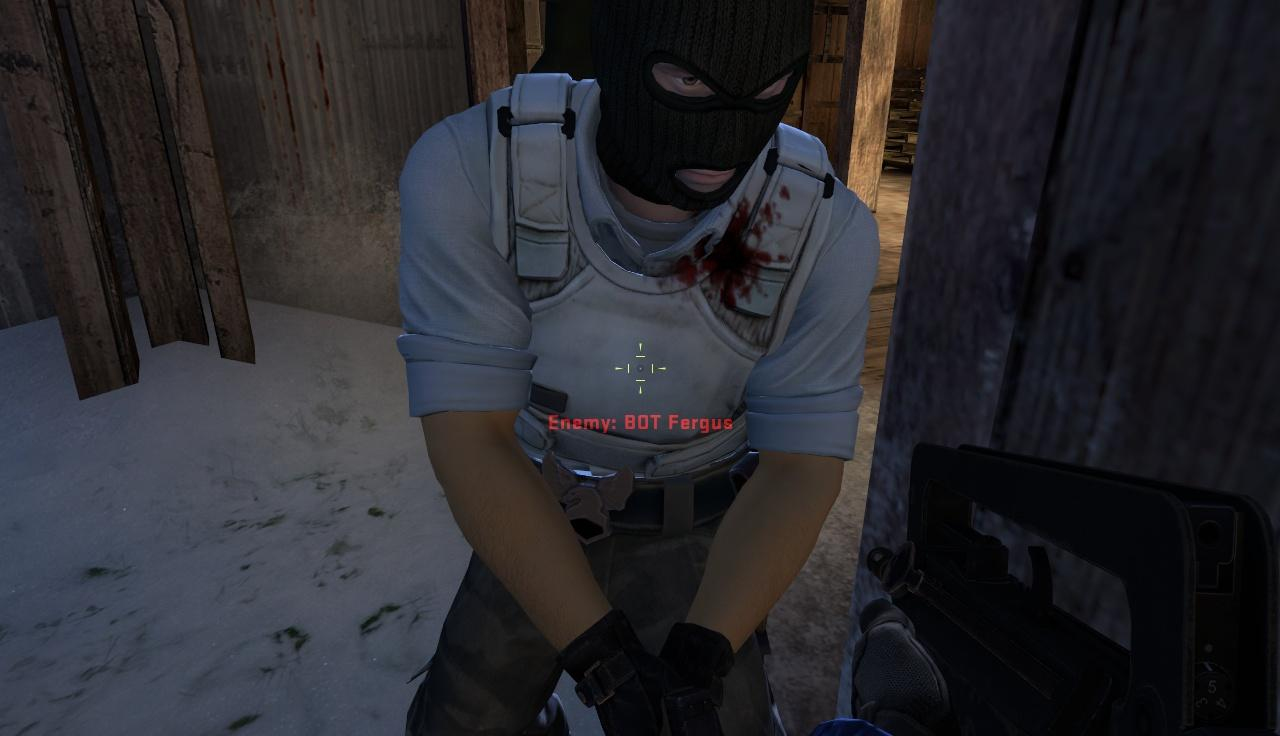rifle: (885, 426, 1280, 736)
tt: (404, 8, 857, 723)
tthead: (598, 4, 820, 208)
